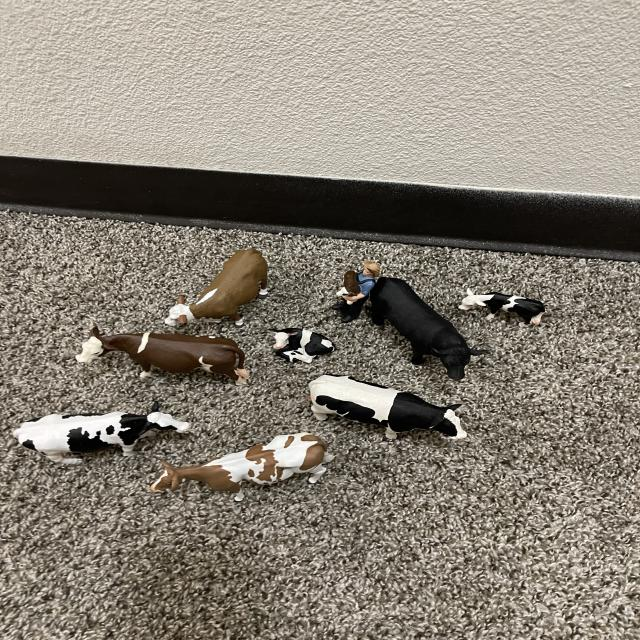cow: (145, 418, 335, 523), (351, 267, 487, 395), (155, 241, 288, 360), (301, 368, 473, 458), (75, 324, 251, 387), (12, 408, 191, 467), (458, 286, 547, 327), (271, 326, 336, 367), (341, 269, 361, 298)
person: (354, 257, 384, 290)
